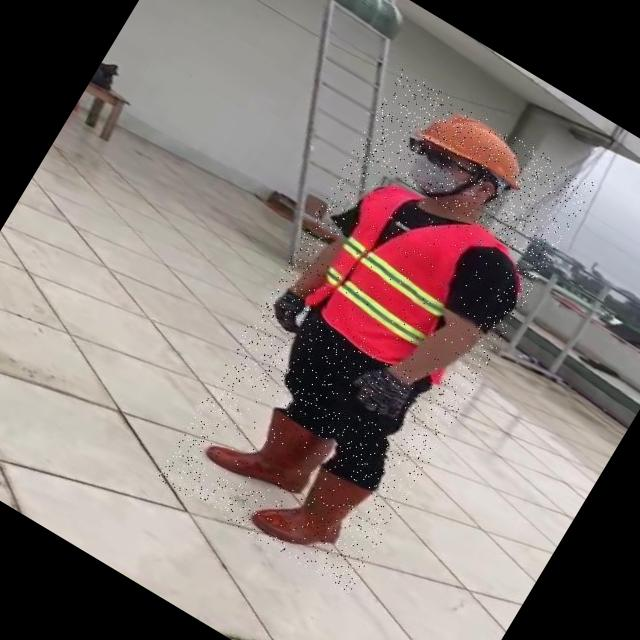hard_hat: (408, 91, 544, 203)
safety_vest: (293, 166, 522, 392)
vehicle: (156, 68, 596, 594)
work_boots: (201, 382, 345, 516), (248, 446, 374, 570)
